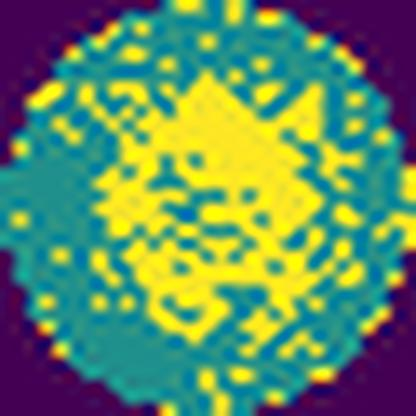Donut: (70, 65, 369, 360)
